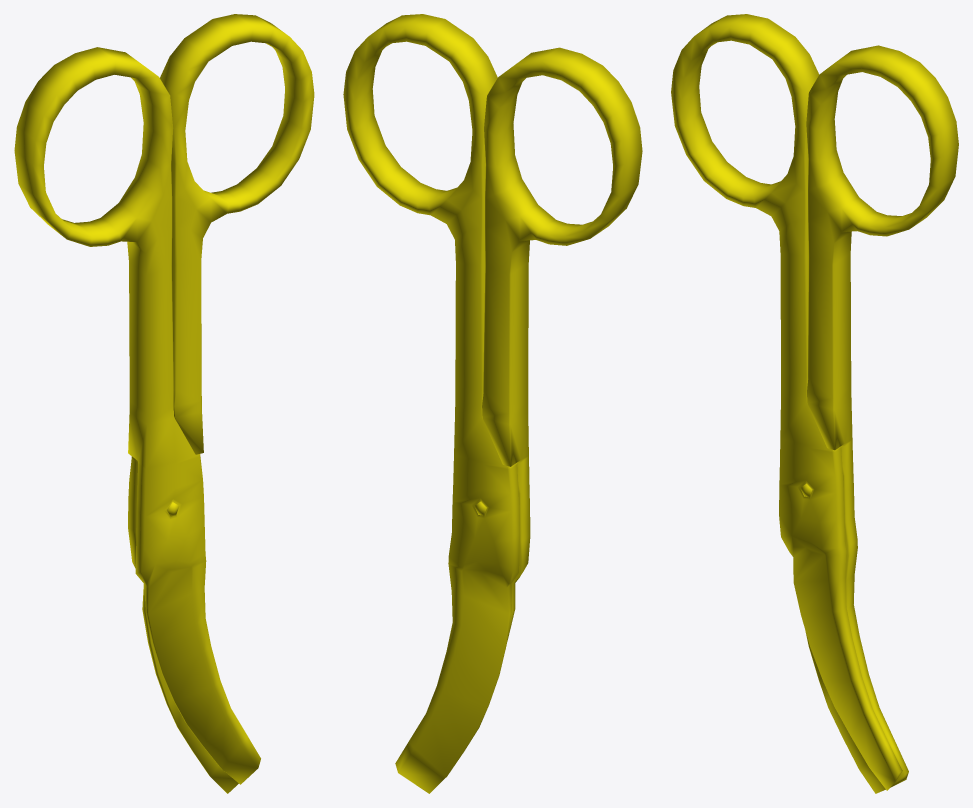
File: bendy_scissor2.fbx
The picture shows the model from 3 angles, left to right: view 1: azimuth 30°, elevation 25°; view 2: azimuth 150°, elevation 25°; view 3: azimuth 330°, elevation 25°; orthographic projection. The views are drawn at different scales.
Parts seen in each view (by area): view 1: Plane.005; view 2: Plane.005; view 3: Plane.005.
Part boxes in pixels (x1,y1,x2,y2): Plane.005: [14, 14, 314, 793]; Plane.005: [343, 14, 642, 793]; Plane.005: [671, 14, 958, 793].
Size of the model in its own units: 145 by 380 by 17.68.
